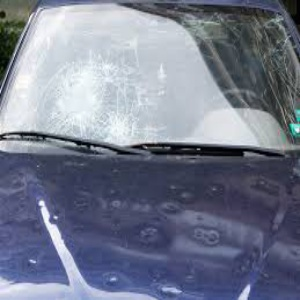front_windshield_glass: (37, 14, 287, 140)
